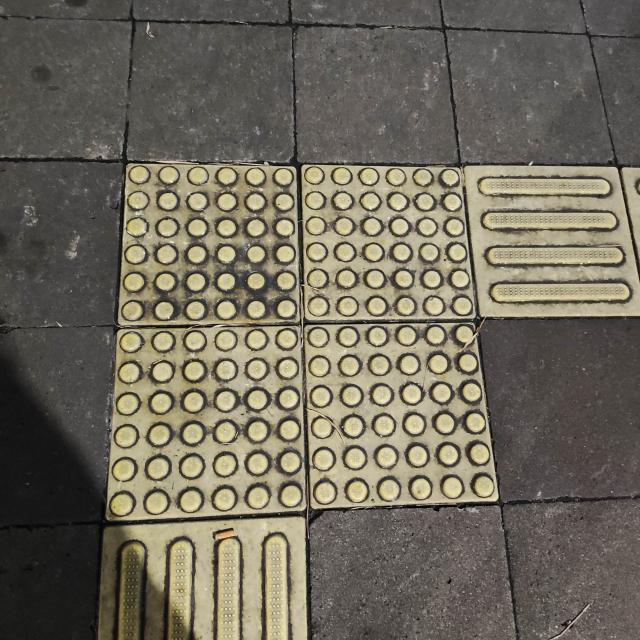kanan: (55, 81, 640, 640)
